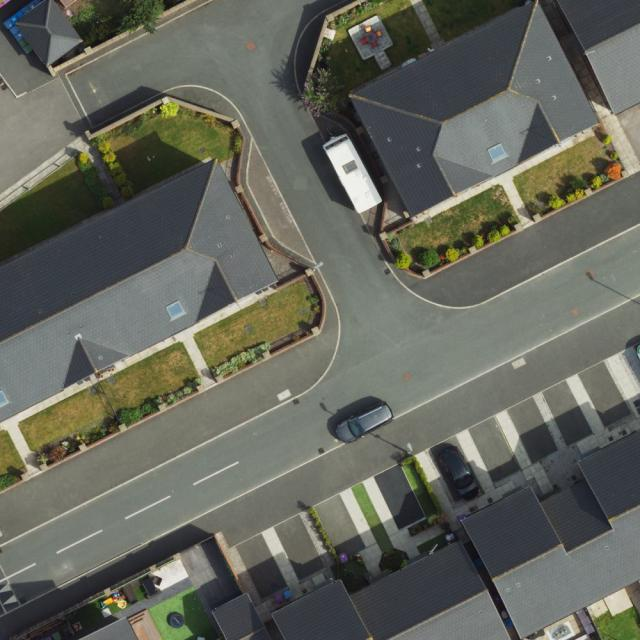roof: (0, 154, 280, 425), (357, 0, 598, 218), (463, 427, 640, 638), (272, 538, 512, 640), (557, 0, 640, 119), (13, 0, 82, 67), (211, 592, 270, 640), (79, 617, 139, 640)
skylight: (485, 144, 509, 165), (166, 299, 188, 321), (0, 388, 9, 408)
